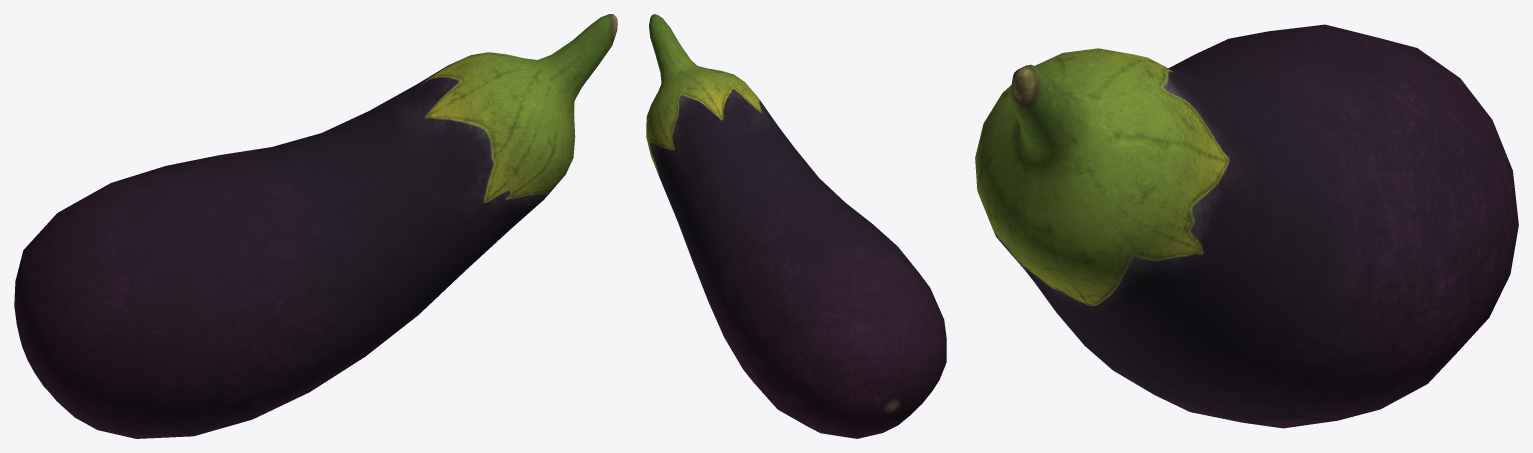
Rendered from eggplant.glb.
The picture shows the model from 3 angles, left to right: view 1: azimuth 30°, elevation 25°; view 2: azimuth 150°, elevation 25°; view 3: azimuth 270°, elevation 25°; orthographic projection. The views are drawn at different scales.
Parts seen in each view (by area): view 1: Object_2.001; view 2: Object_2.001; view 3: Object_2.001.
Part boxes in pixels (x1,y1,x2,y2): Object_2.001: [14, 14, 617, 438]; Object_2.001: [646, 14, 946, 438]; Object_2.001: [975, 24, 1518, 428].
Size of the model in its own units: 2.82 by 2.2 by 1.85.
Materials: 1 (1 with a texture image).
